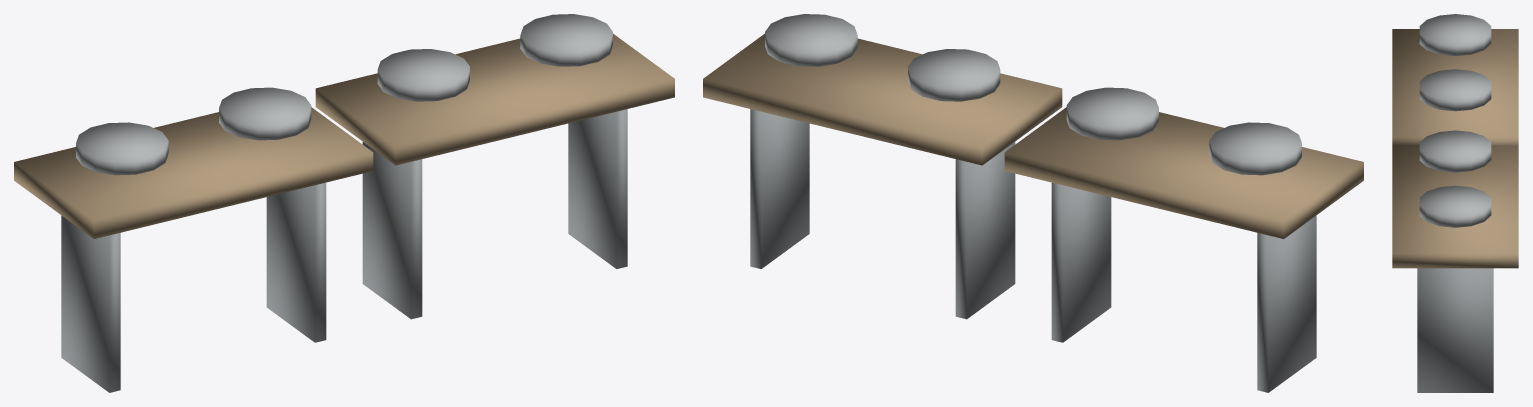
Rendered from projection_rewind_bench__cluster.glb.
3 views of the same model, side by side, from view 1: azimuth 30°, elevation 25°; view 2: azimuth 150°, elevation 25°; view 3: azimuth 270°, elevation 25° (orthographic). The views are drawn at different scales.
Visible parts, largest first — view 1: world; view 2: world; view 3: world.
Part boxes in pixels (bbox=[...]): world: bbox=[14, 14, 674, 392]; world: bbox=[703, 14, 1363, 392]; world: bbox=[1392, 14, 1518, 392].
Size of the model in its own units: 2.6 by 0.96 by 0.62.
